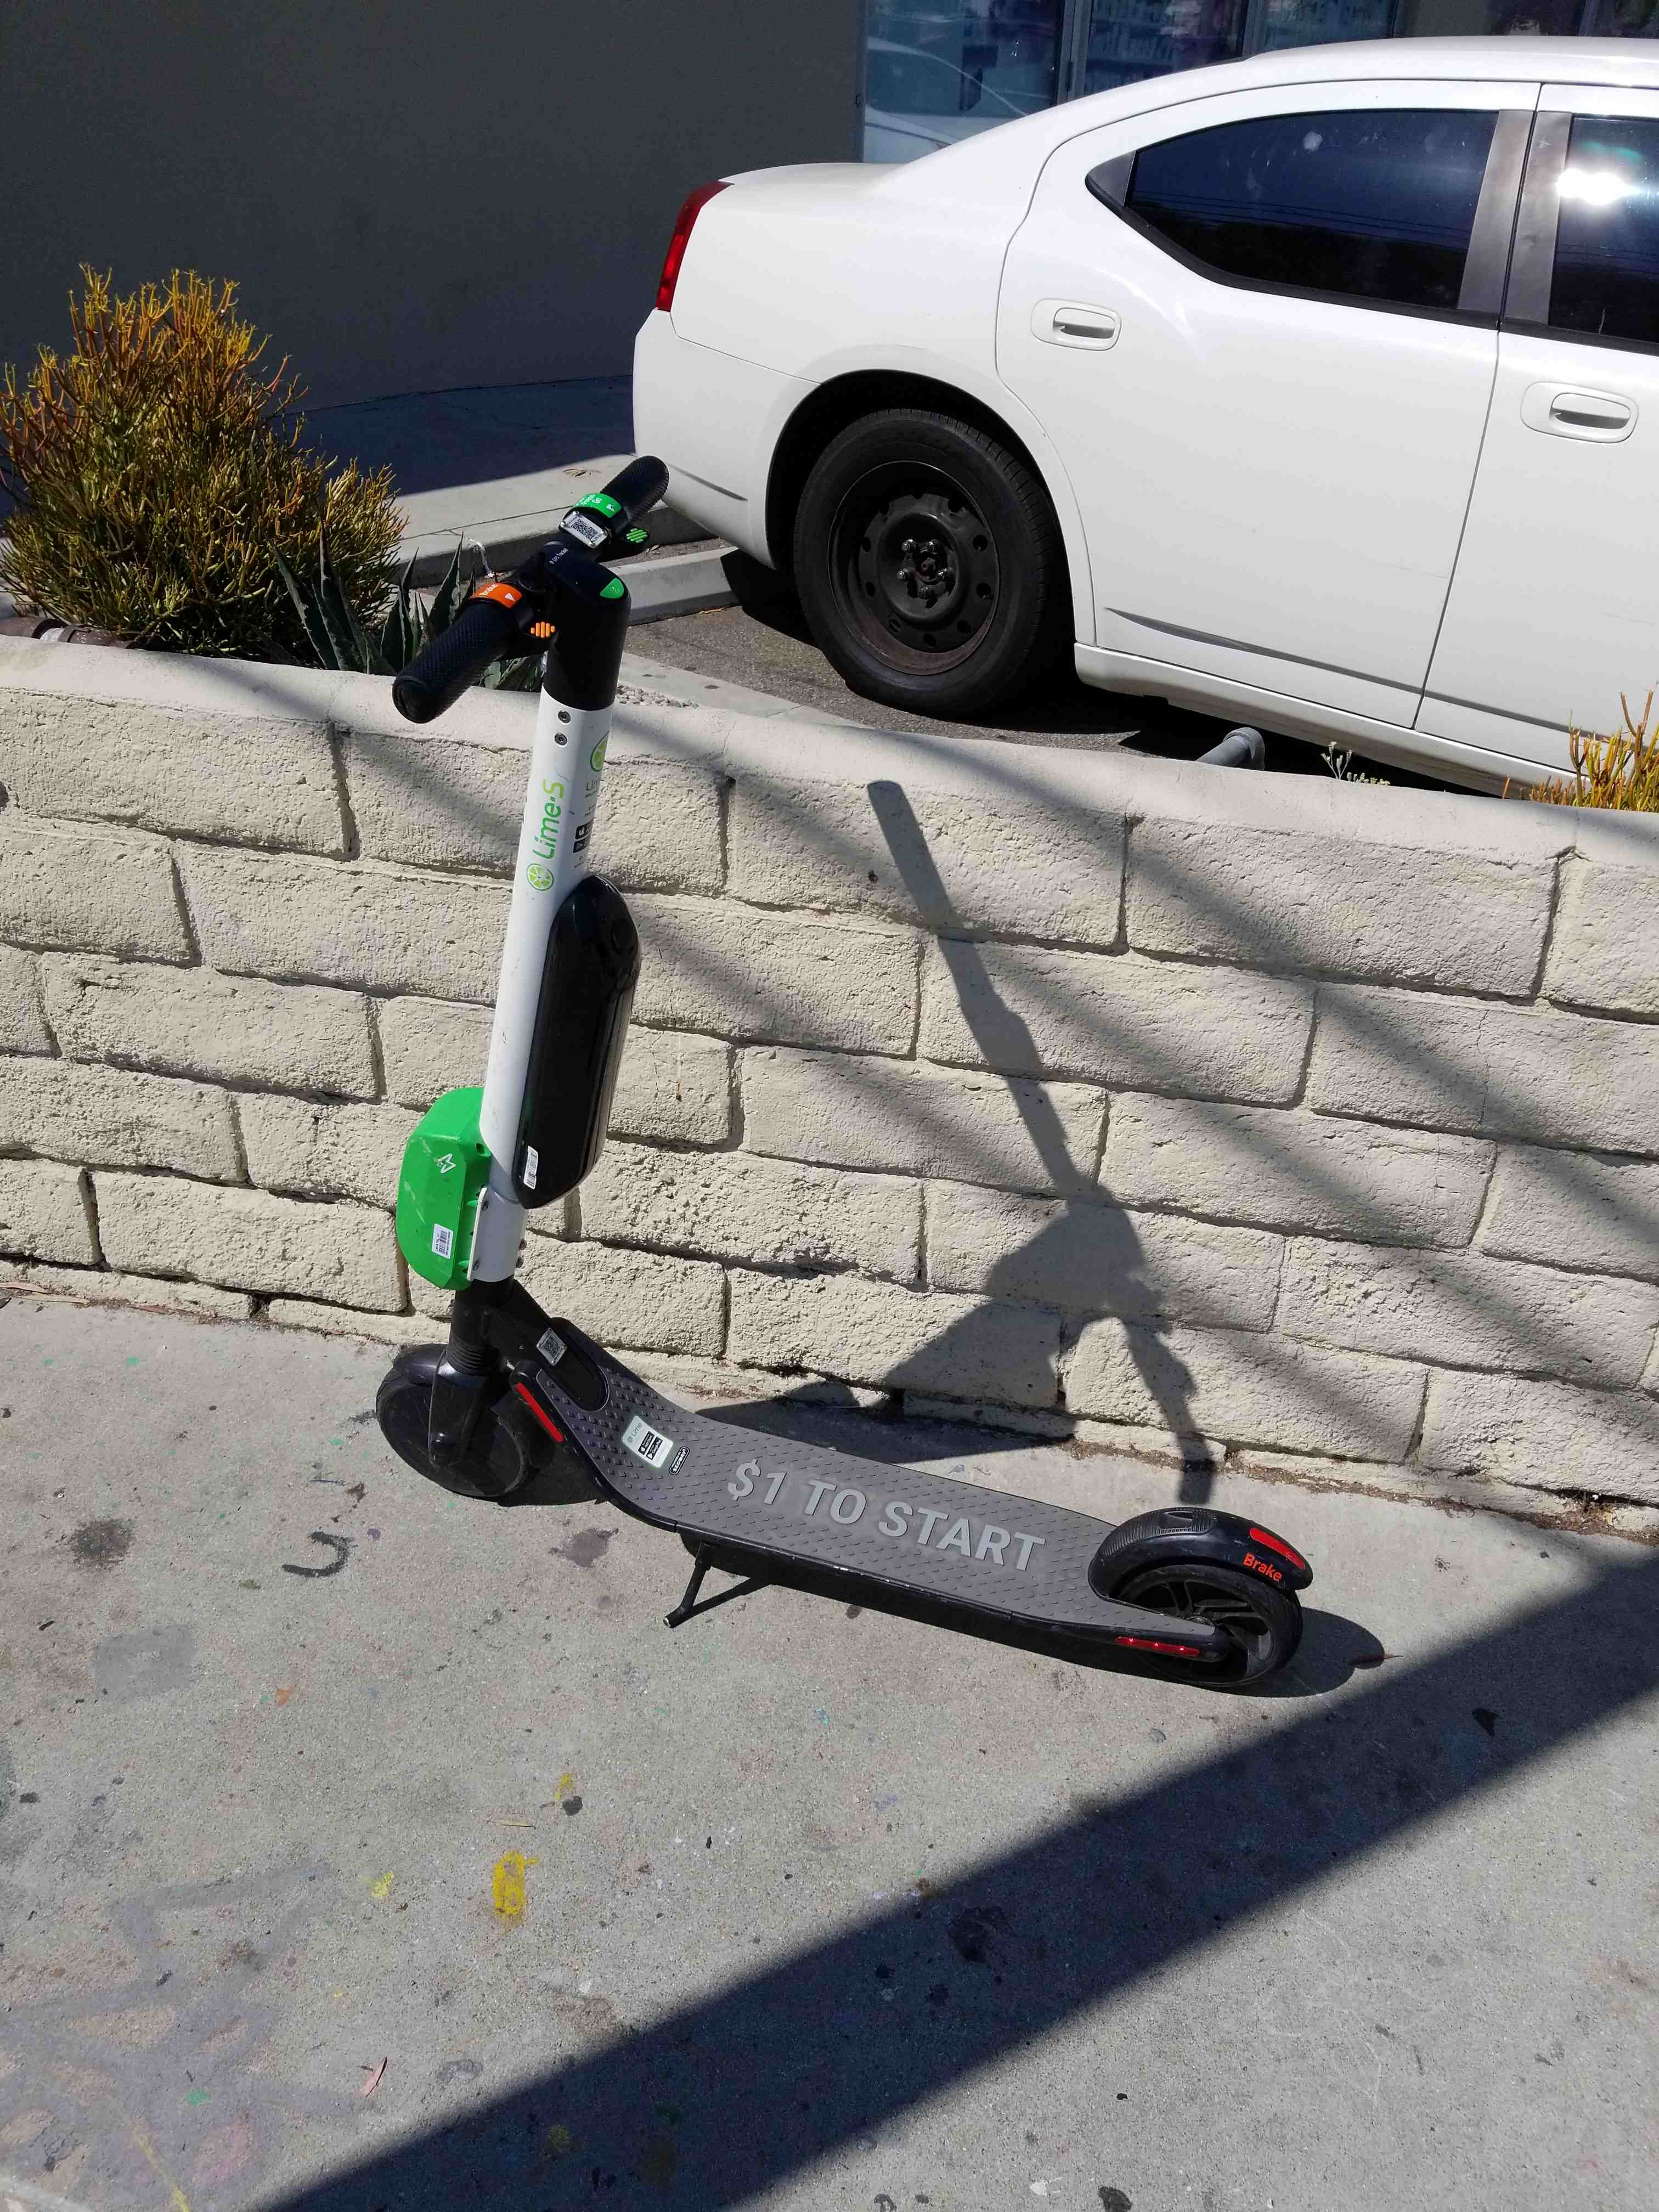scooter: (349, 448, 1338, 1684)
